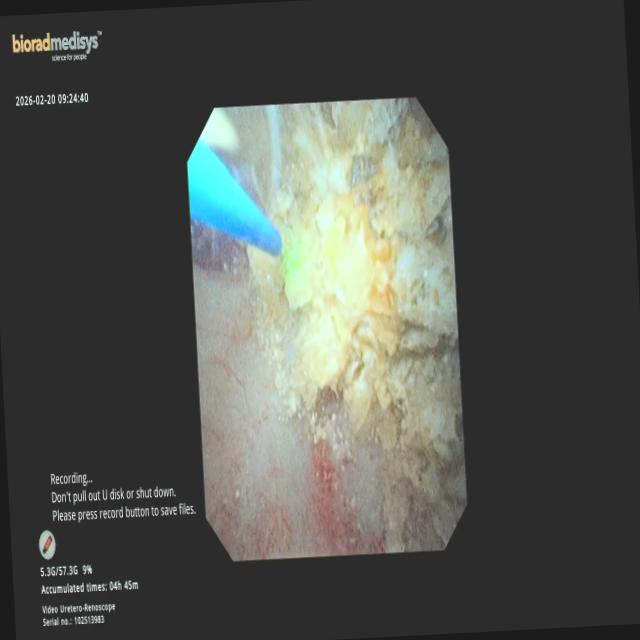laser_dot: (284, 243, 302, 274)
stone-new: (248, 98, 465, 547)
